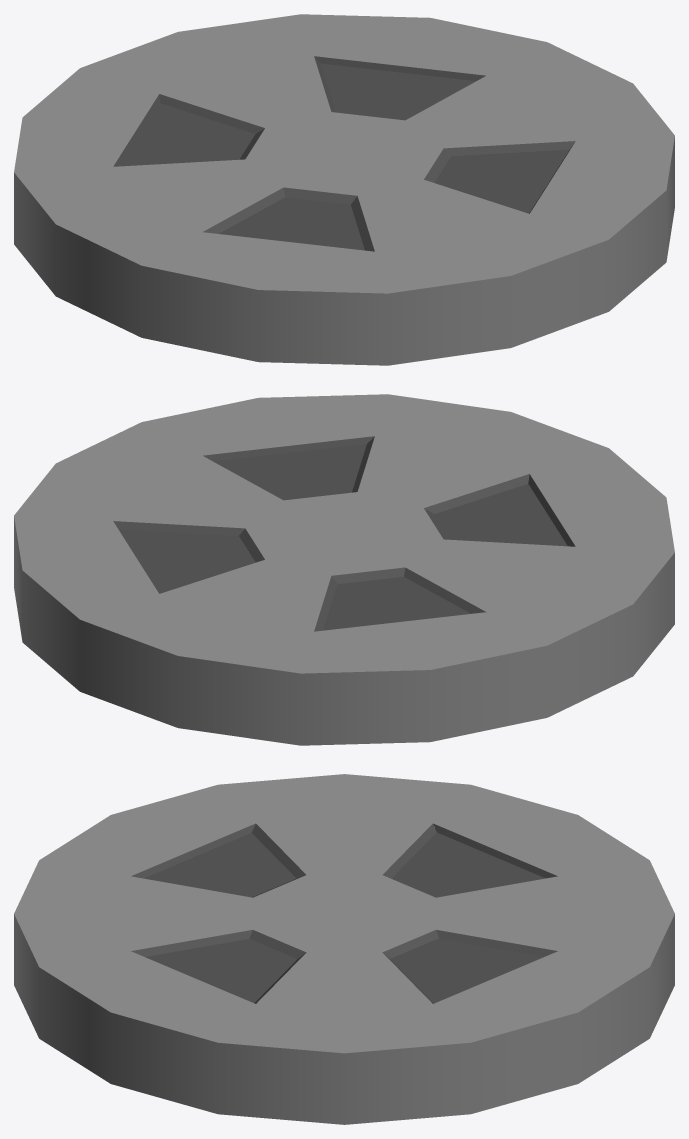
File: Reel.fbx
3 views of the same model, one above another, from view 1: azimuth 30°, elevation 25°; view 2: azimuth 150°, elevation 25°; view 3: azimuth 270°, elevation 25° (orthographic).
Visible parts, largest first — view 1: Reel; view 2: Reel; view 3: Reel.
Part boxes in pixels (x1,y1,x2,y2): Reel: (14,14,674,365); Reel: (14,394,674,745); Reel: (14,774,674,1124).
Bounding box in the file's own units: 1.97 × 0.2353 × 1.97.
2 materials, 2 textured.
